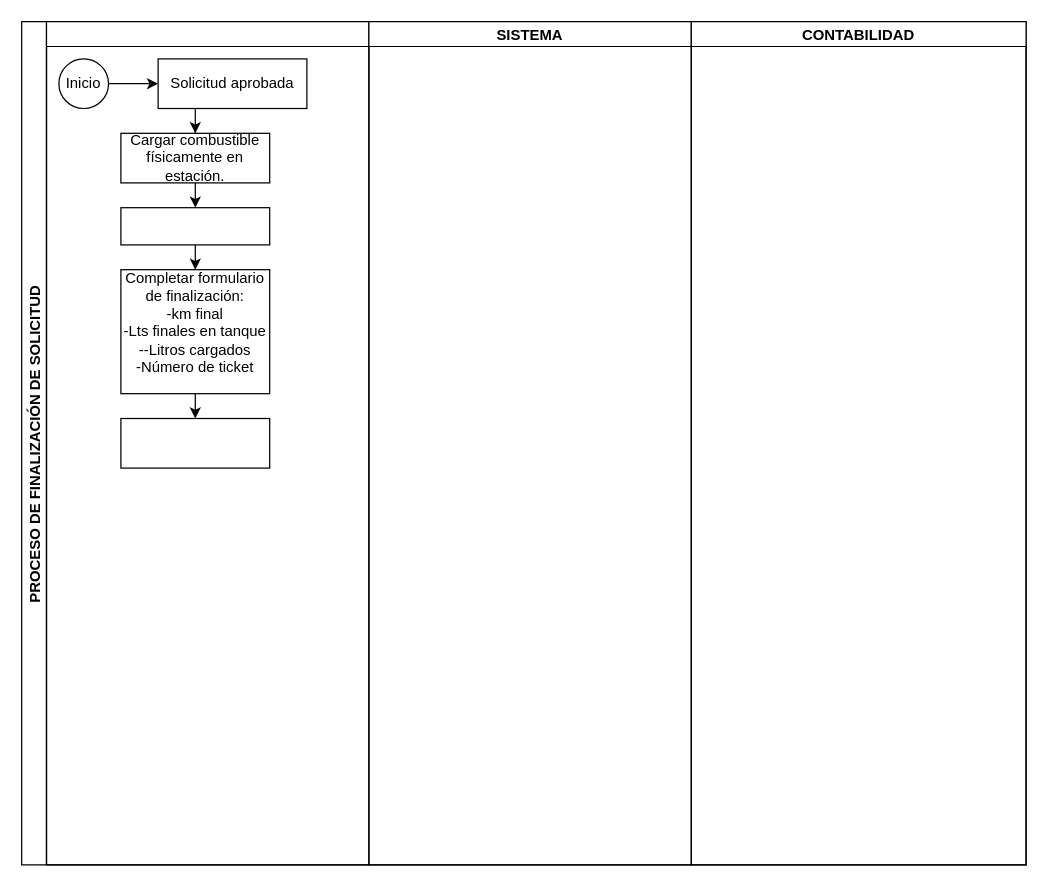
Some shapes in this 1048 by 887 pixel diagram are drawn without their labels. The shapes that lost their labels are listed below. From the top down, each one's box as (x1, y1, x2, y2) in pixels, then its label:
(120, 206, 270, 245): Ir a "Generar nueva solicitud"
(120, 417, 270, 468): Cargar evidencias: -Foto del tablero -Foto del ticket
(45, 20, 369, 865): USUARIO
